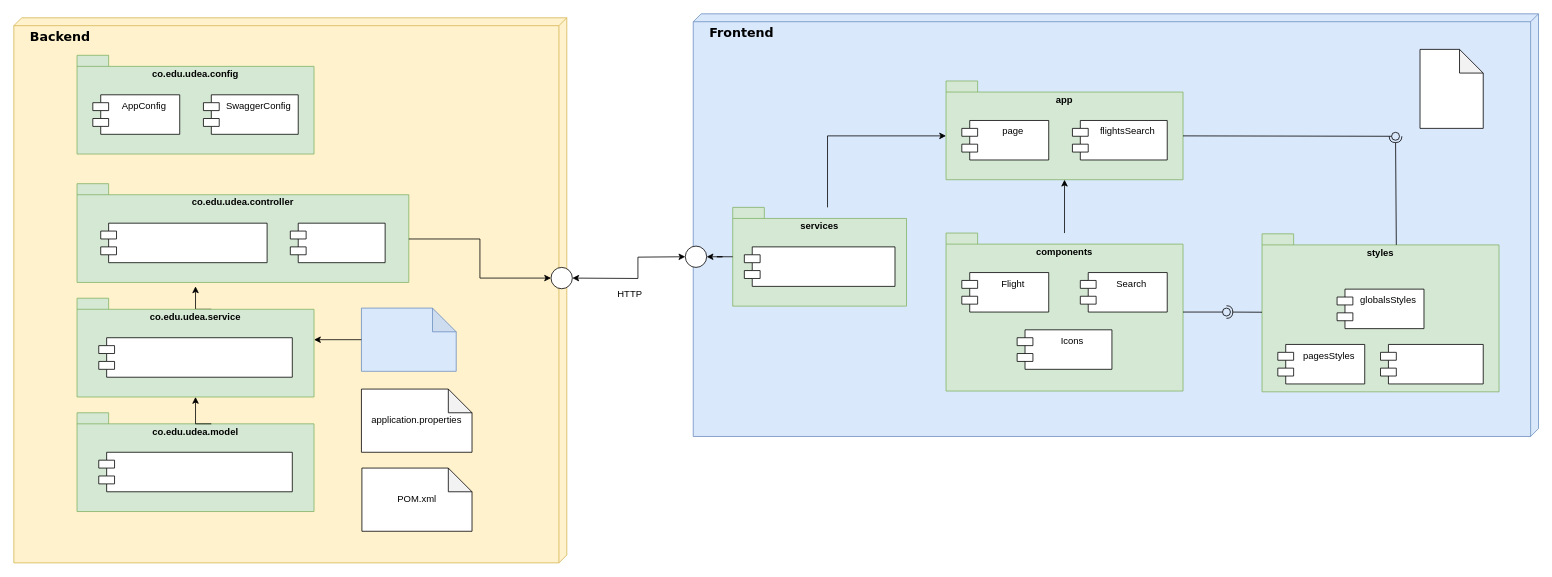
This 1552x577 diagram has some shape labels left out. Each missing label, with the centre of its shape:
"<<POJO>> Flight" belongs at [195,471].
"componentsStyles" belongs at [1431,364].
"CORSFilter" belongs at [337,242].
"FlightController" belongs at [183,242].
"flights.json" belongs at [408,339].
"flightSearchApi" belongs at [819,266].
"FlightService" belongs at [195,357].
"package.json" belongs at [1451,88].
